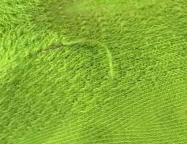snag: (60, 34, 117, 81)
